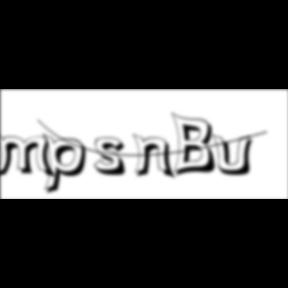B: (172, 111, 222, 179)
m: (1, 132, 60, 181)
n: (132, 132, 180, 181)
p: (43, 132, 93, 198)
s: (94, 137, 134, 179)
u: (211, 132, 259, 178)
